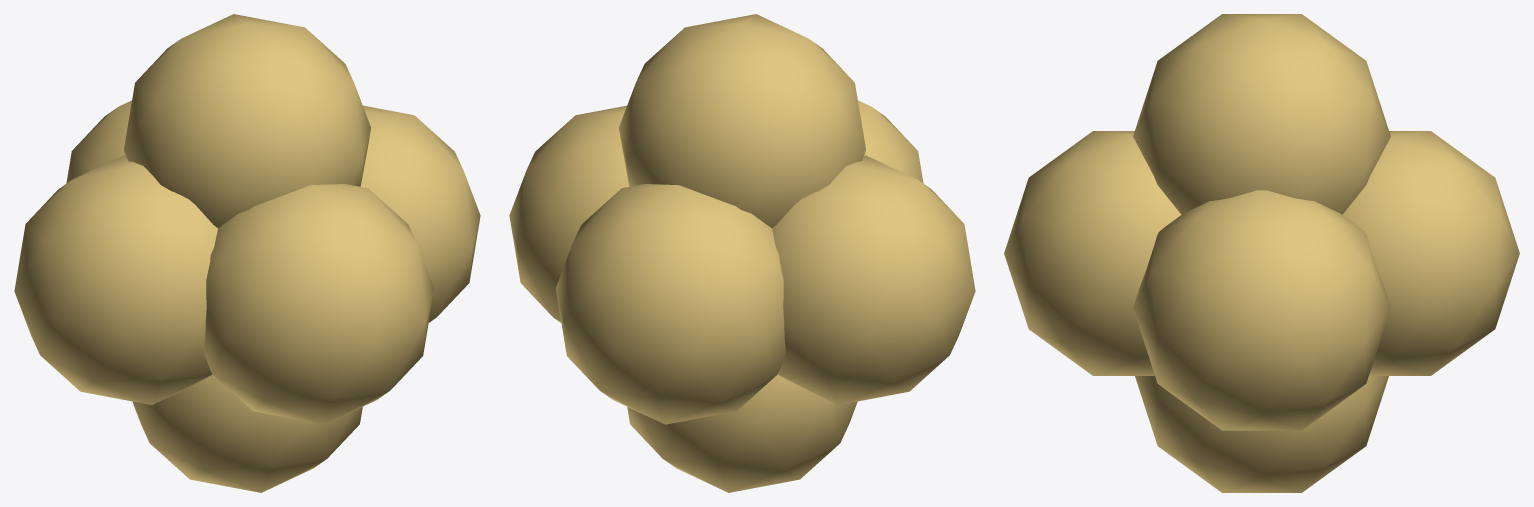
Rendered from cloud.fbx.
The picture shows the model from 3 angles, left to right: view 1: azimuth 30°, elevation 25°; view 2: azimuth 150°, elevation 25°; view 3: azimuth 270°, elevation 25°; orthographic projection. The views are drawn at different scales.
Visible parts, largest first — view 1: Cloud; view 2: Cloud; view 3: Cloud.
Boxes of the visible parts, x1,y1,x2,y2 form: Cloud: (14,14,480,492); Cloud: (509,14,975,492); Cloud: (1004,14,1519,492).
Size of the model in its own units: 0.9755 by 1 by 1.
